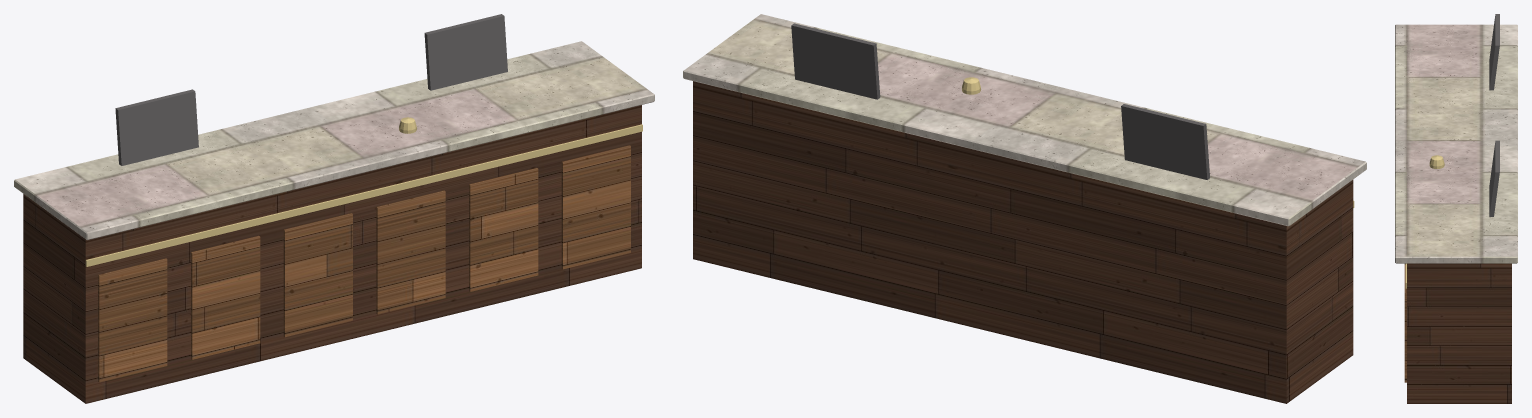
File: reception.glb
3 renders of one model, left to right at view 1: azimuth 30°, elevation 25°; view 2: azimuth 150°, elevation 25°; view 3: azimuth 270°, elevation 25°, orthographic. The views are drawn at different scales.
Parts seen in each view (by area): view 1: reception_dkwood, reception_wood, reception_stone_f, reception_dark, reception_gold; view 2: reception_dkwood, reception_stone_f, reception_dark; view 3: reception_stone_f, reception_dkwood, reception_dark, reception_wood, reception_gold.
Boxes of the visible parts, <box> form: reception_dkwood: <box>23,105,641,403</box>; reception_wood: <box>98,145,630,382</box>; reception_stone_f: <box>14,41,654,240</box>; reception_dark: <box>115,14,507,165</box>; reception_gold: <box>85,117,642,266</box>; reception_dkwood: <box>693,81,1353,403</box>; reception_stone_f: <box>683,14,1366,226</box>; reception_dark: <box>791,23,1209,179</box>; reception_stone_f: <box>1395,24,1517,263</box>; reception_dkwood: <box>1407,263,1511,403</box>; reception_dark: <box>1489,14,1499,216</box>; reception_wood: <box>1404,263,1406,382</box>; reception_gold: <box>1405,155,1444,288</box>.
Size of the model in its own units: 3.68 by 1.45 by 0.82.
Materials: 5 (3 with a texture image).
